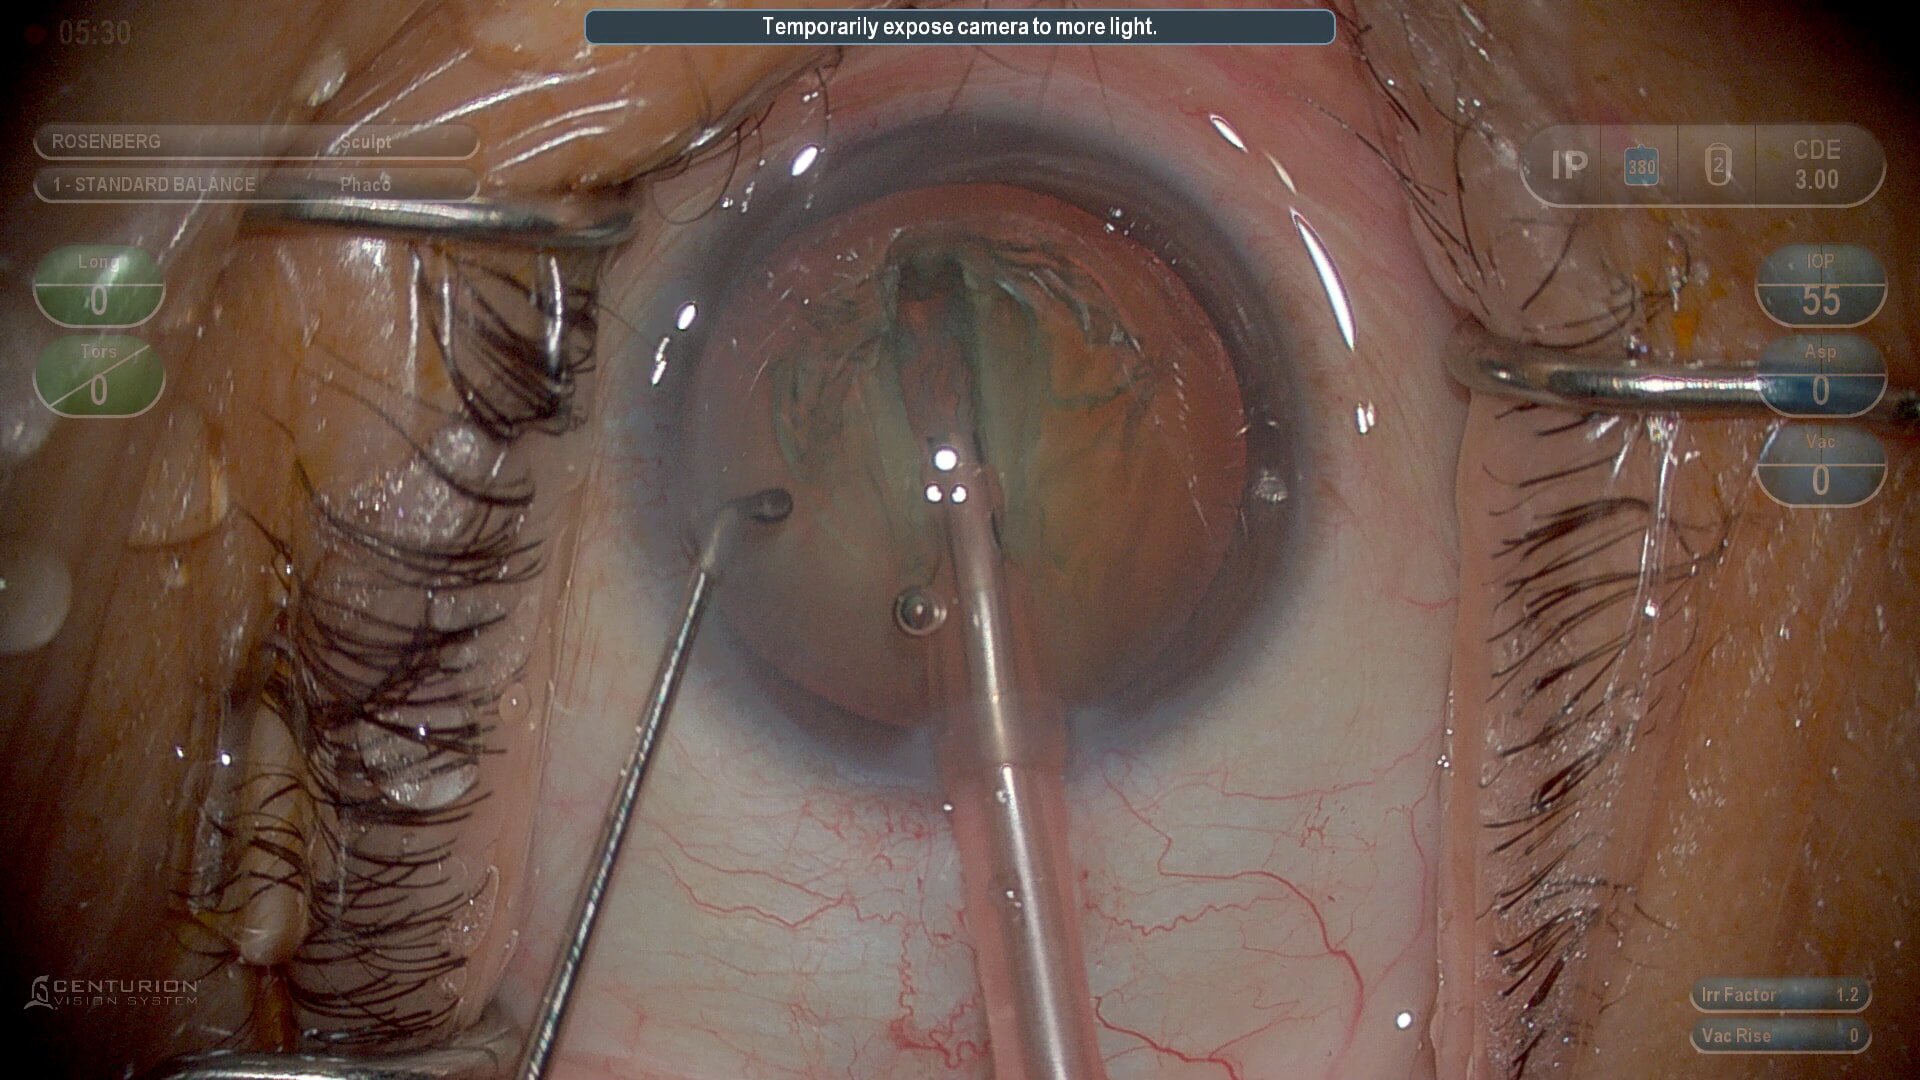iris: (650, 122, 1306, 777)
pupil: (686, 177, 1252, 724)
